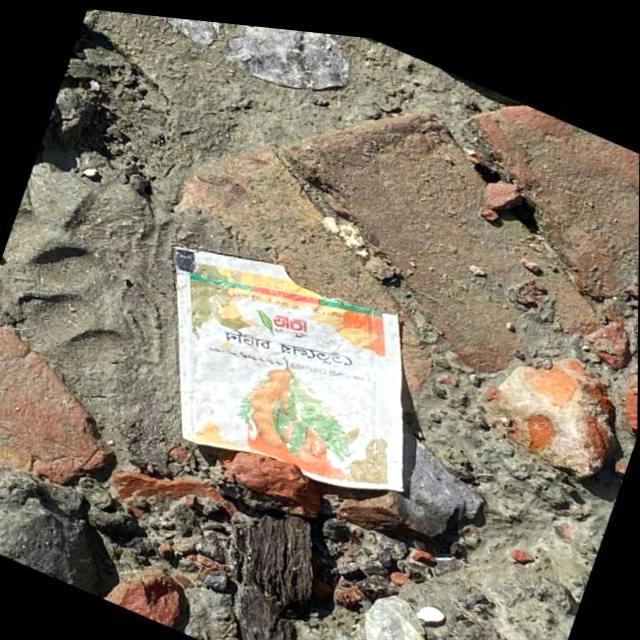packet: (130, 208, 450, 522)
